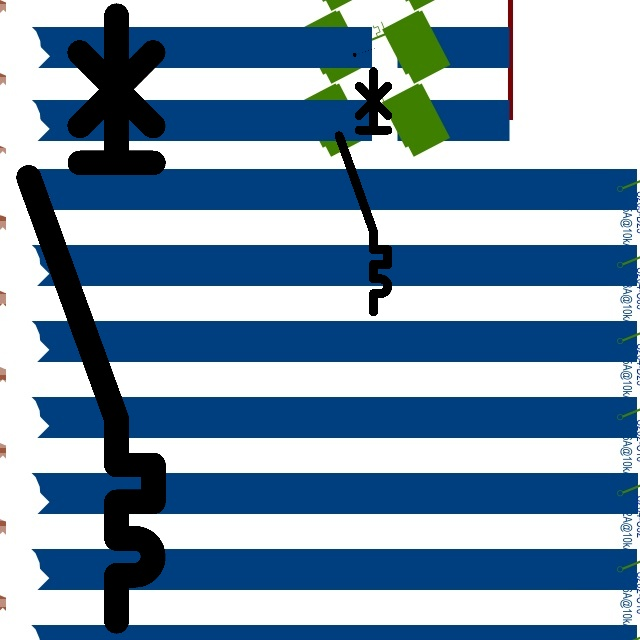interruptor_termomagnetico: (13, 0, 169, 637), (333, 65, 394, 317)
